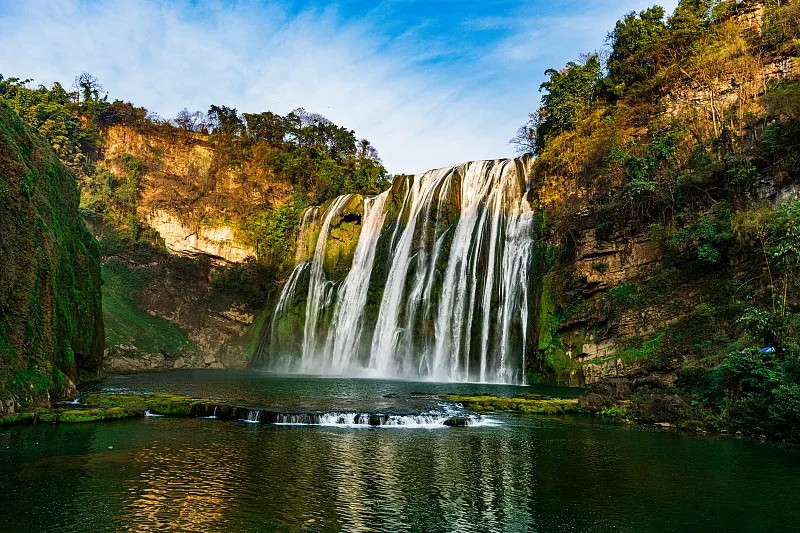Huangguoshu: (270, 153, 533, 385)
